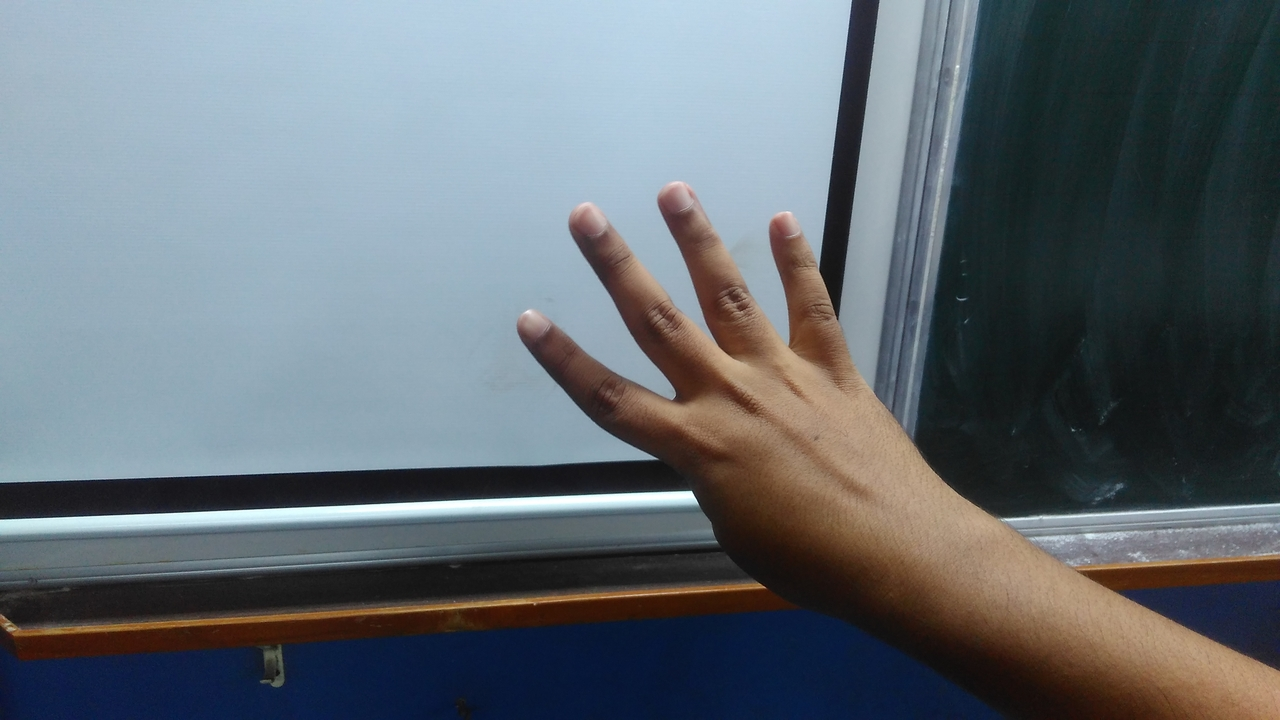fingertip: (646, 170, 710, 226), (560, 190, 620, 244), (506, 296, 562, 348), (766, 200, 816, 250)
